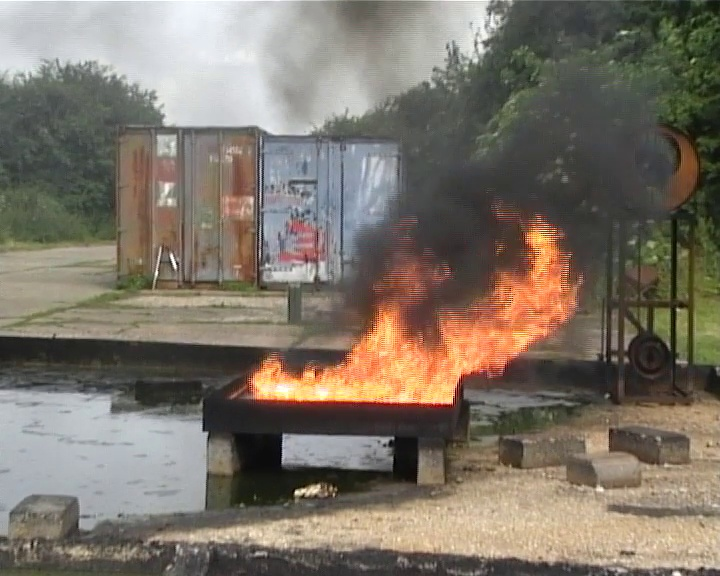fire: (256, 232, 575, 404)
